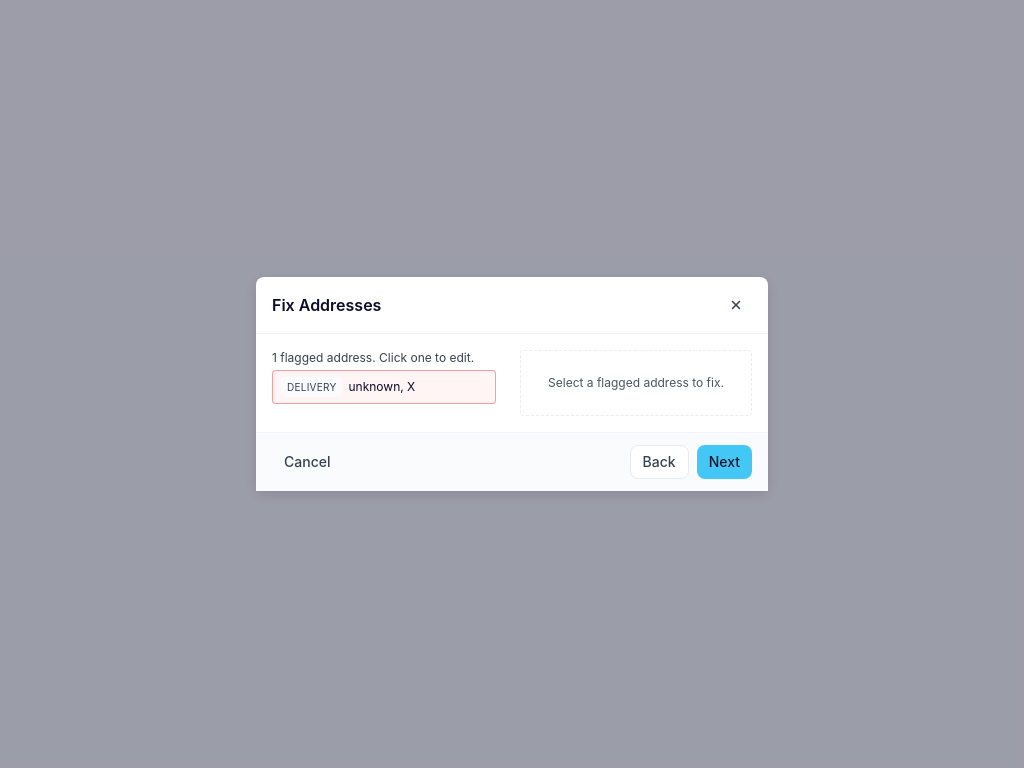
Test case: FixAddressesModal › selecting a flagged pin opens the editor pane
The width and height of the screenshot is (1024, 768).
Click the button "Delivery unknown, X" at point(384, 387), box [272,370,496,404]
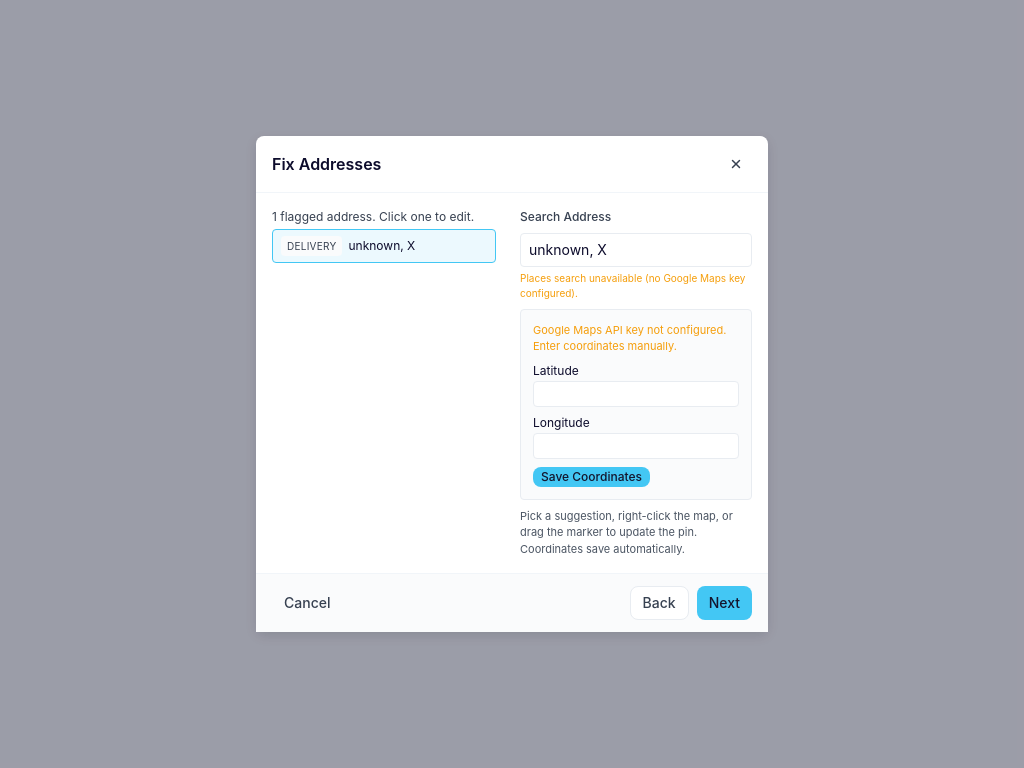
Expected: the field with placeholder "Type a corrected address..." is shown, [520,233,752,267]
